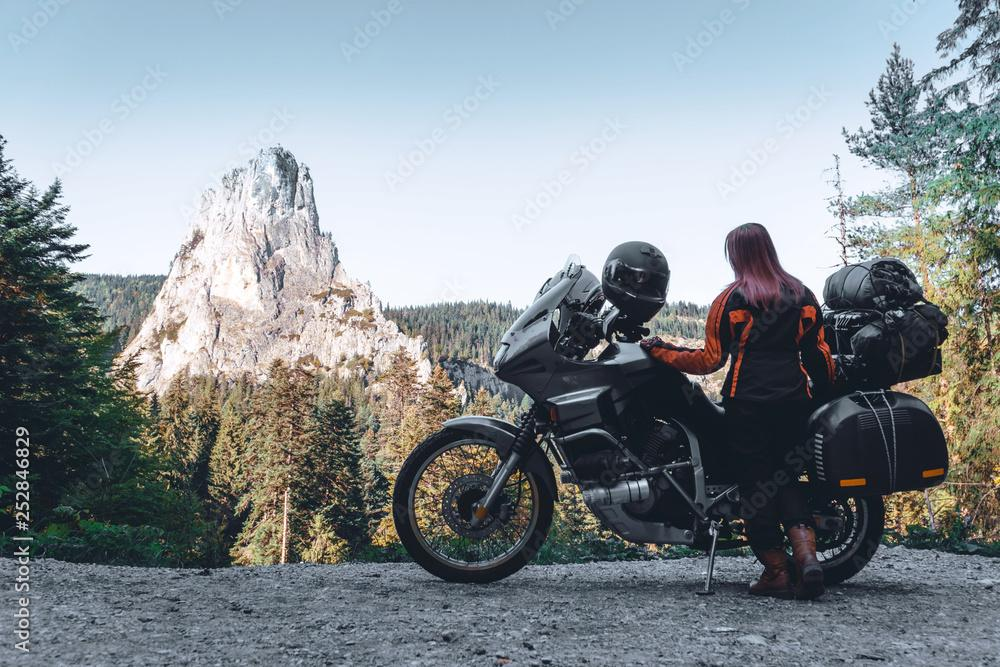helmet: (602, 240, 671, 327)
nohelmet: (724, 222, 780, 283)
